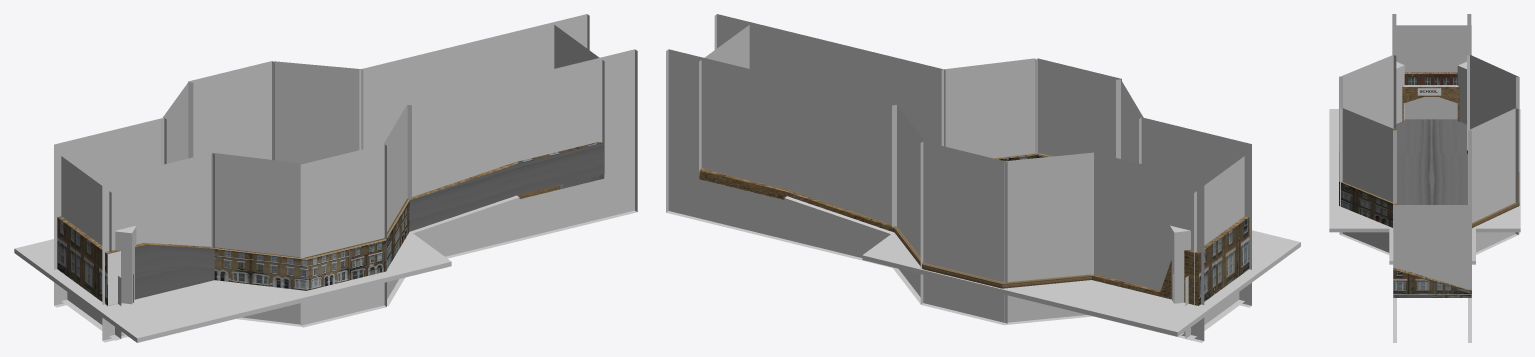
File: map3.gltf
The picture shows the model from 3 angles, left to right: view 1: azimuth 30°, elevation 25°; view 2: azimuth 150°, elevation 25°; view 3: azimuth 270°, elevation 25°; orthographic projection. The views are drawn at different scales.
Parts seen in each view (by area): view 1: Cube.006, ground, Cube.002, Cube.005, Cube.008, slope, Cube.009, slope.004, Cube.007, Cube.010, Cube.003, slope.005 (+5 smaller); view 2: Cube.005, Cube.007, slope.006, Cube.010, Cube.006, Cube.002, slope.005, ground, Cube.008, Cube.009, slope.004, Cube.003 (+5 smaller); view 3: ground, Cube.004, slope.004, slope.005, Cube.003, Cube.002, slope, slope.006, block, Cube.001, Cube.006, slope.001 (+5 smaller).
Part boxes in pixels (x1=…): Cube.006: x1=407, y1=49, x2=637, y2=258; ground: x1=57, y1=142, x2=604, y2=305; Cube.002: x1=14, y1=232, x2=451, y2=342; Cube.005: x1=359, y1=14, x2=589, y2=149; Cube.008: x1=300, y1=144, x2=386, y2=327; slope: x1=211, y1=152, x2=303, y2=326; Cube.009: x1=102, y1=153, x2=214, y2=342; slope.004: x1=272, y1=61, x2=363, y2=163; Cube.007: x1=188, y1=61, x2=274, y2=160; Cube.010: x1=54, y1=118, x2=166, y2=307; Cube.003: x1=61, y1=156, x2=111, y2=252; slope.005: x1=384, y1=105, x2=411, y2=305; Cube.005: x1=666, y1=49, x2=896, y2=268; Cube.007: x1=920, y1=141, x2=1007, y2=325; slope.006: x1=1004, y1=152, x2=1095, y2=324; Cube.010: x1=1091, y1=152, x2=1204, y2=342; Cube.006: x1=714, y1=14, x2=945, y2=146; Cube.002: x1=862, y1=230, x2=1300, y2=336; slope.005: x1=941, y1=58, x2=1036, y2=158; ground: x1=699, y1=153, x2=1249, y2=305; Cube.008: x1=1035, y1=58, x2=1121, y2=157; Cube.009: x1=1139, y1=117, x2=1251, y2=307; slope.004: x1=892, y1=105, x2=924, y2=303; Cube.003: x1=1194, y1=156, x2=1248, y2=305; ground: x1=1339, y1=72, x2=1519, y2=297; Cube.004: x1=1393, y1=205, x2=1471, y2=294; slope.004: x1=1468, y1=108, x2=1518, y2=254; slope.005: x1=1340, y1=108, x2=1396, y2=254; Cube.003: x1=1393, y1=25, x2=1471, y2=72; Cube.002: x1=1329, y1=109, x2=1520, y2=232; slope: x1=1340, y1=55, x2=1396, y2=129; slope.006: x1=1467, y1=54, x2=1518, y2=150; block: x1=1404, y1=97, x2=1457, y2=119; Cube.001: x1=1402, y1=85, x2=1459, y2=121; Cube.006: x1=1393, y1=130, x2=1396, y2=342; slope.001: x1=1457, y1=61, x2=1466, y2=124.
Size of the model in its own units: 245 by 69.66 by 96.12.
Materials: 1 (1 with a texture image).
